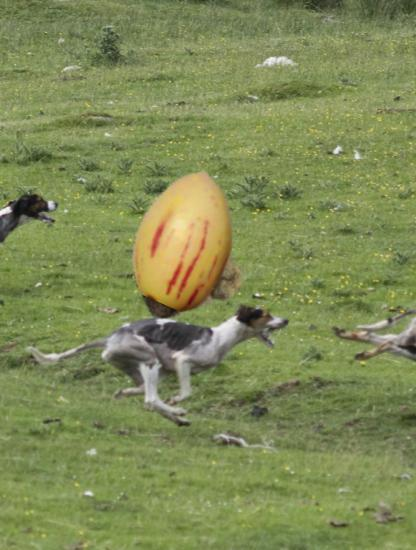Cauliflower: (130, 211, 238, 319)
Pepino: (117, 169, 257, 309)
